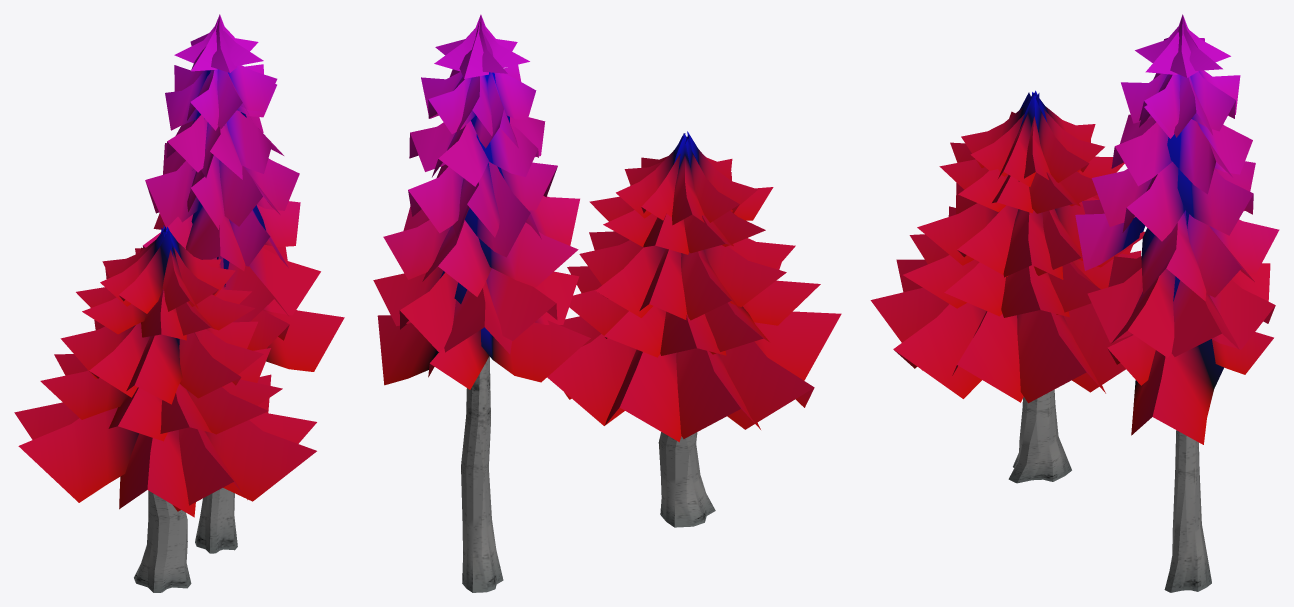
File: Pine_Set.fbx
3 renders of one model, left to right at view 1: azimuth 30°, elevation 25°; view 2: azimuth 150°, elevation 25°; view 3: azimuth 270°, elevation 25°, orthographic. The views are drawn at different scales.
Parts seen in each view (by area): view 1: polySurface76, polySurface16, polySurface75, polySurface74; view 2: polySurface76, polySurface16, polySurface74, polySurface75; view 3: polySurface16, polySurface76, polySurface74, polySurface75.
Part boxes in pixels (<box>): polySurface76: <box>14,225,316,517</box>; polySurface16: <box>135,14,344,371</box>; polySurface75: <box>134,490,191,592</box>; polySurface74: <box>195,488,237,553</box>; polySurface76: <box>547,131,841,442</box>; polySurface16: <box>373,14,590,389</box>; polySurface74: <box>461,356,503,592</box>; polySurface75: <box>658,432,715,527</box>; polySurface16: <box>1075,14,1279,444</box>; polySurface76: <box>870,90,1144,403</box>; polySurface74: <box>1164,430,1211,592</box>; polySurface75: <box>1008,389,1071,483</box>.
Size of the model in its own units: 722 by 997 by 646.
